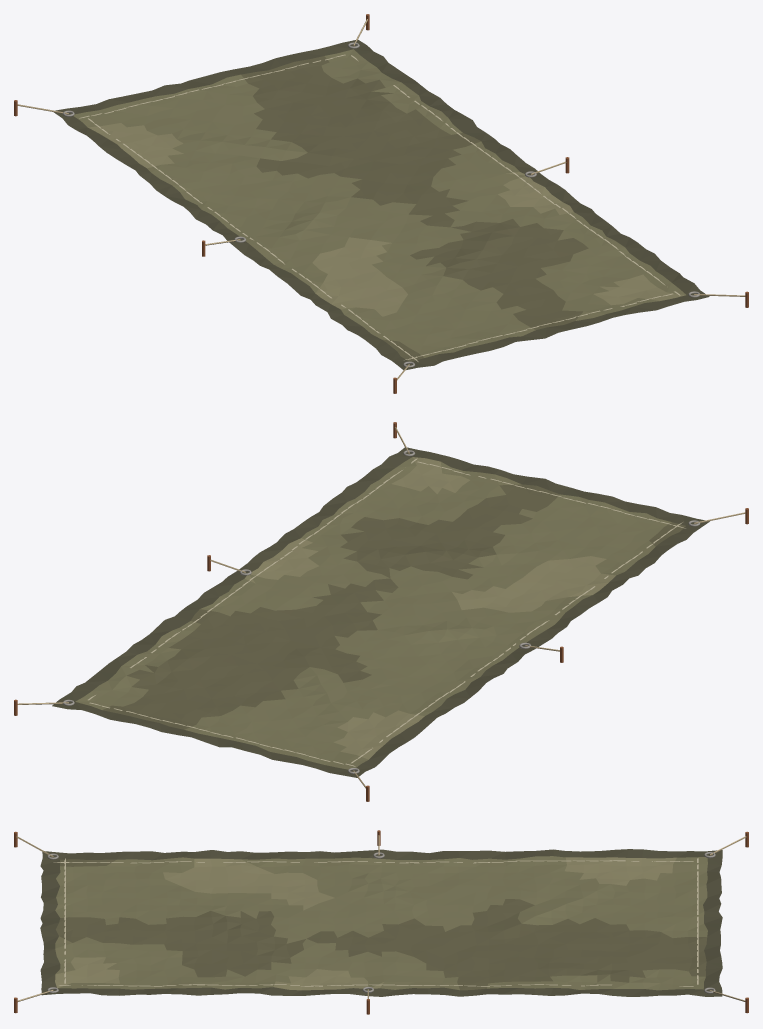
The model's file is Tarp.fbx.
3 renders of one model, top to bottom at view 1: azimuth 30°, elevation 25°; view 2: azimuth 150°, elevation 25°; view 3: azimuth 270°, elevation 25°, orthographic. The views are drawn at different scales.
Parts seen in each view (by area): view 1: Tarp; view 2: Tarp; view 3: Tarp.
Part boxes in pixels (x1,y1,x2,y2): Tarp: (14,14,748,393); Tarp: (14,422,748,801); Tarp: (14,830,748,1014).
Bounding box in the file's own units: 5.94 × 0.23 × 10.83.
